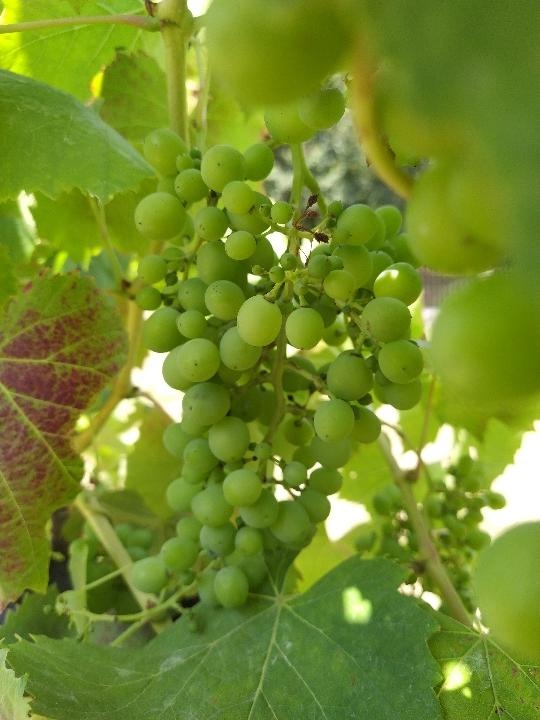grape: (129, 123, 434, 633)
